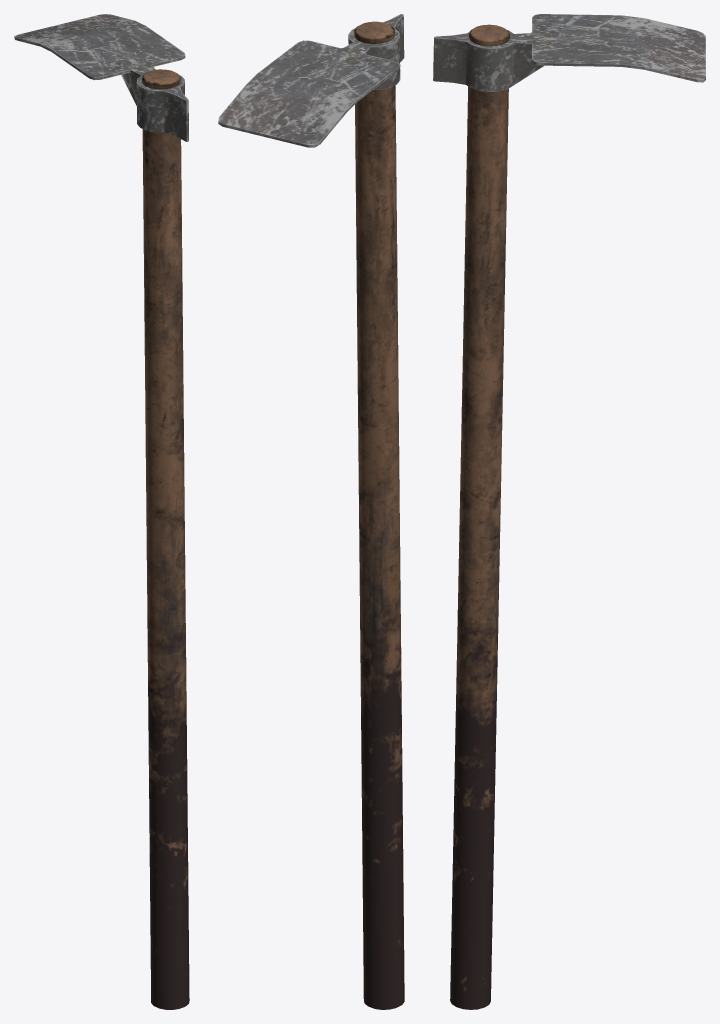
3 renders of one model, left to right at view 1: azimuth 30°, elevation 25°; view 2: azimuth 150°, elevation 25°; view 3: azimuth 270°, elevation 25°, orthographic. The views are drawn at different scales.
Visible parts, largest first — view 1: SM_ST_01; view 2: SM_ST_01; view 3: SM_ST_01.
Boxes of the visible parts, bbox=[...] form: SM_ST_01: bbox=[14, 14, 189, 1009]; SM_ST_01: bbox=[218, 14, 404, 1009]; SM_ST_01: bbox=[433, 14, 705, 1009].
Bounding box in the file's own units: 10.85 × 25.57 × 100.
1 material, 1 textured.
